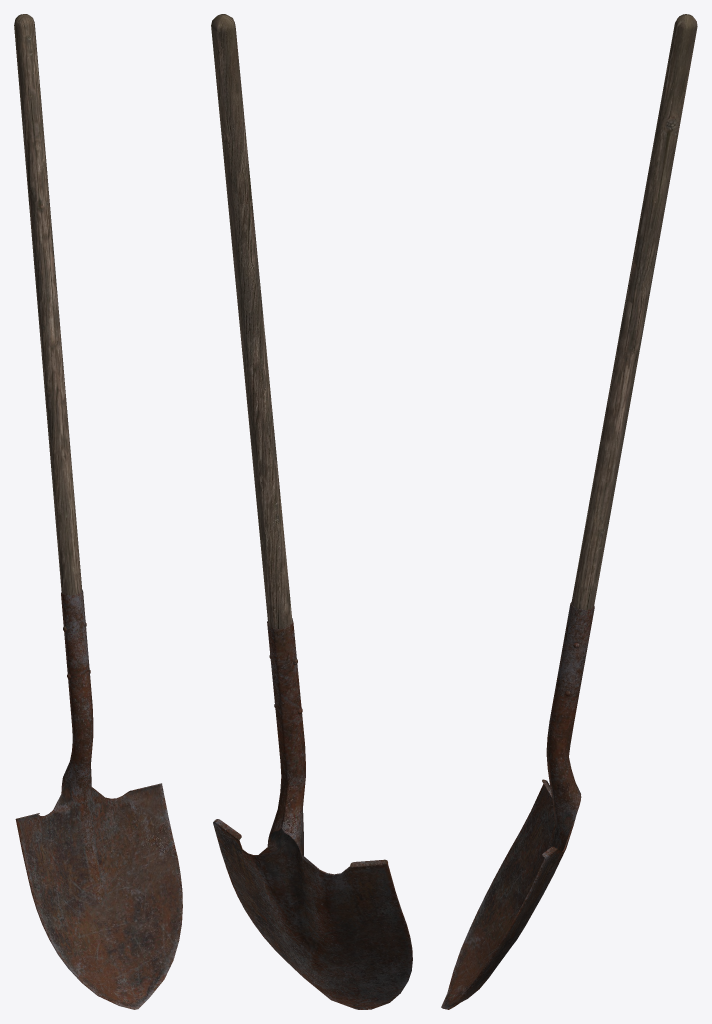
File: Shovel.fbx
The picture shows the model from 3 angles, left to right: view 1: azimuth 30°, elevation 25°; view 2: azimuth 150°, elevation 25°; view 3: azimuth 270°, elevation 25°; orthographic projection. The views are drawn at different scales.
Parts seen in each view (by area): view 1: Blade_low, Shaft_low; view 2: Blade_low, Shaft_low; view 3: Blade_low, Shaft_low.
Part boxes in pixels (x1,y1,x2,y2): Blade_low: (15,590,182,1009); Shaft_low: (14,14,82,595); Blade_low: (213,618,412,1009); Shaft_low: (211,14,292,628); Blade_low: (441,602,594,1009); Shaft_low: (571,14,697,609).
Bounding box in the file's own units: 33.34 × 200 × 46.76.
